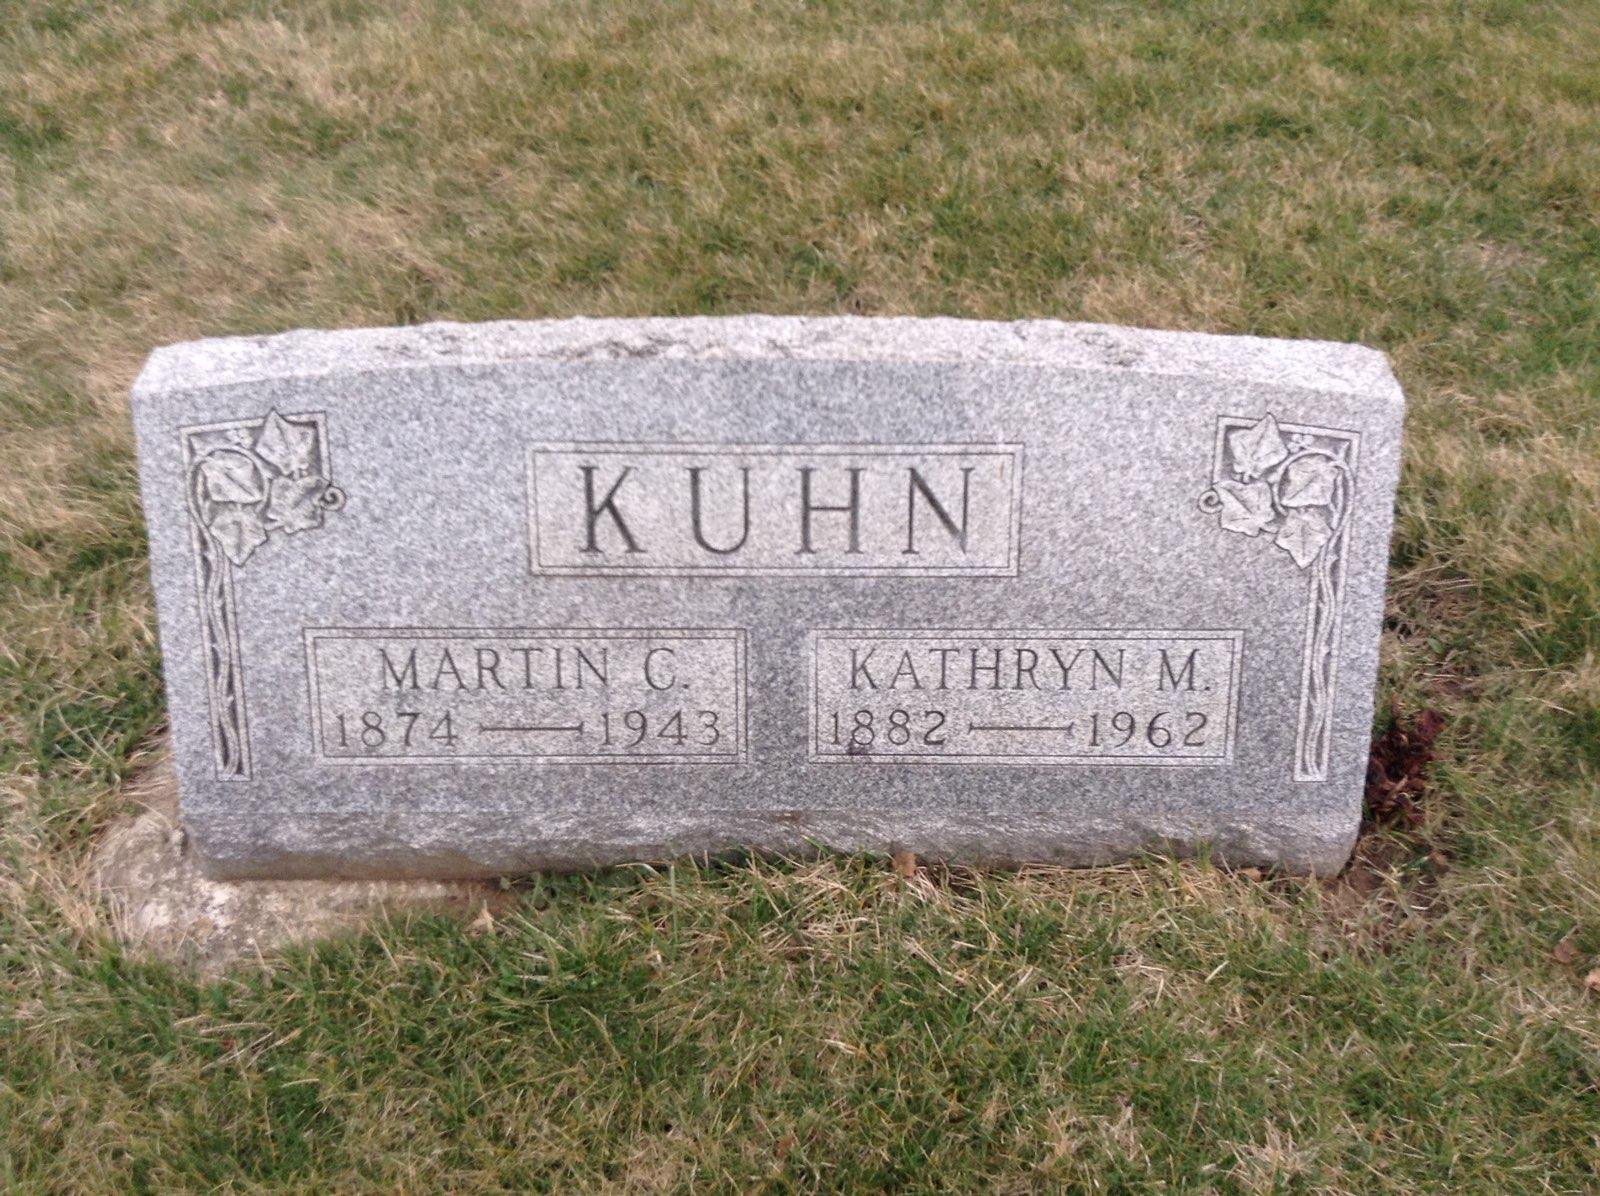upright: (126, 315, 1404, 871)
